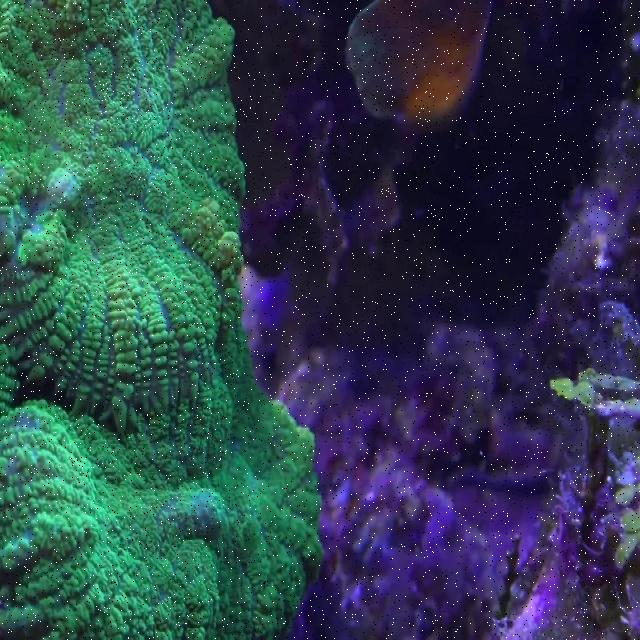aquatic plants: (553, 368, 639, 627)
reefs: (283, 40, 639, 627), (0, 0, 320, 639), (345, 2, 496, 125)
